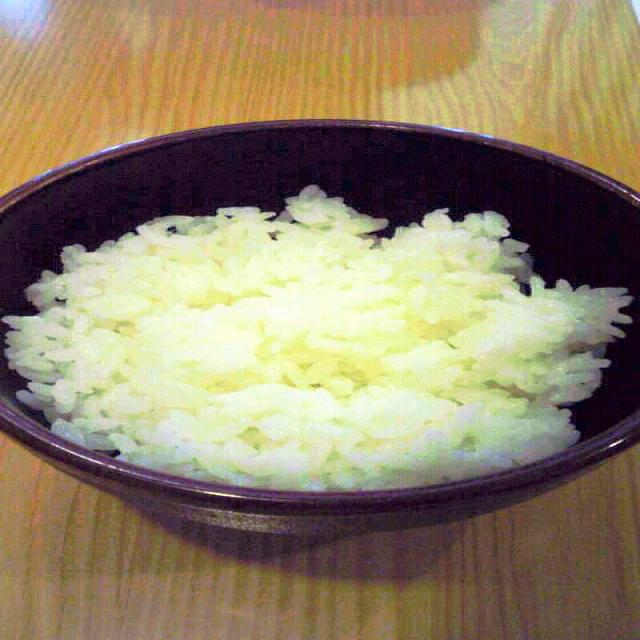rice: (0, 182, 629, 489)
